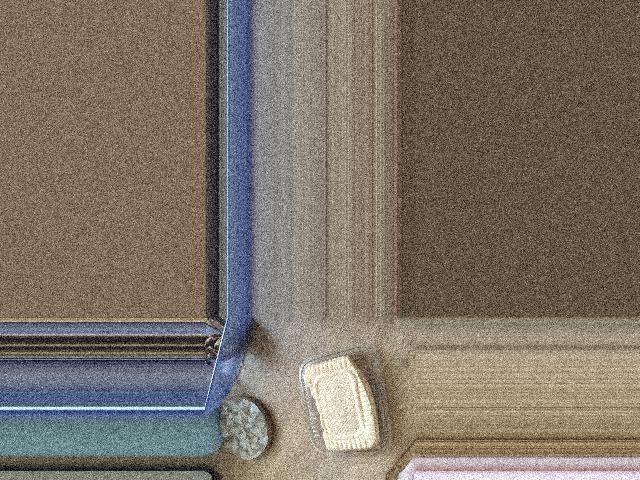cheese: (292, 356, 416, 470)
